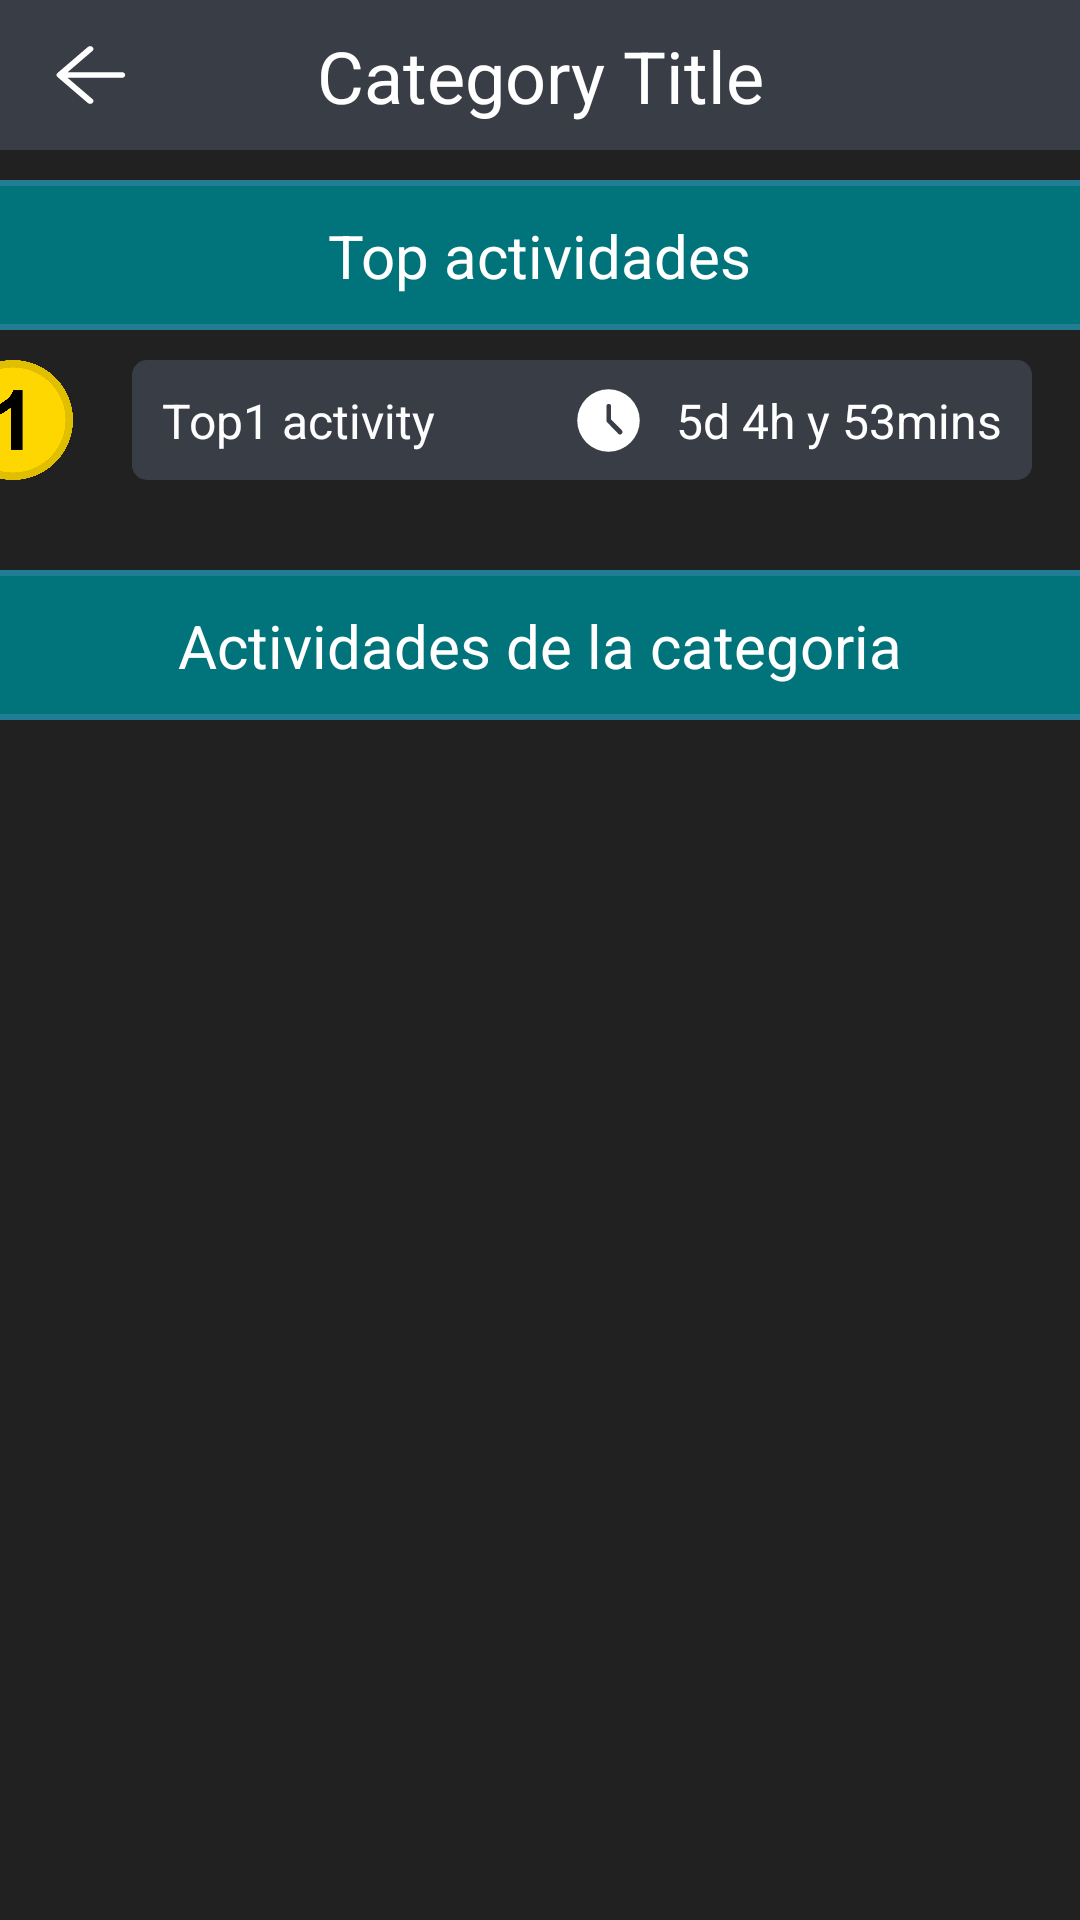

Icons on this 1080px x 1920px Android screen, each with its box as (x1, y1, x2, y2):
arrow back: (56, 46, 125, 104)
clock: (577, 389, 640, 452)
